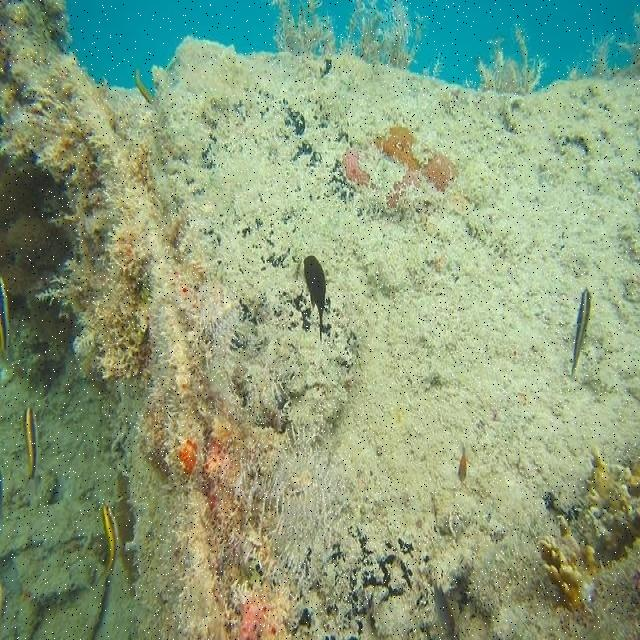fish: (303, 256, 327, 340), (572, 294, 590, 375), (101, 502, 119, 582), (24, 407, 38, 480), (0, 280, 9, 352)
